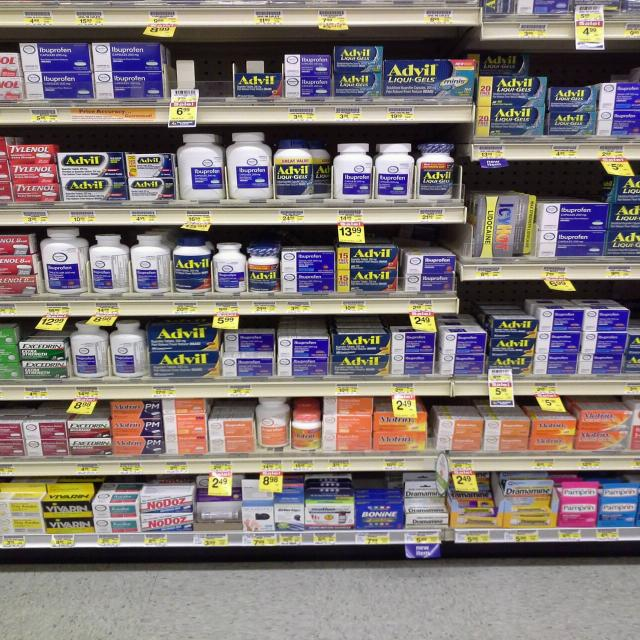empty: (157, 38, 231, 90)
